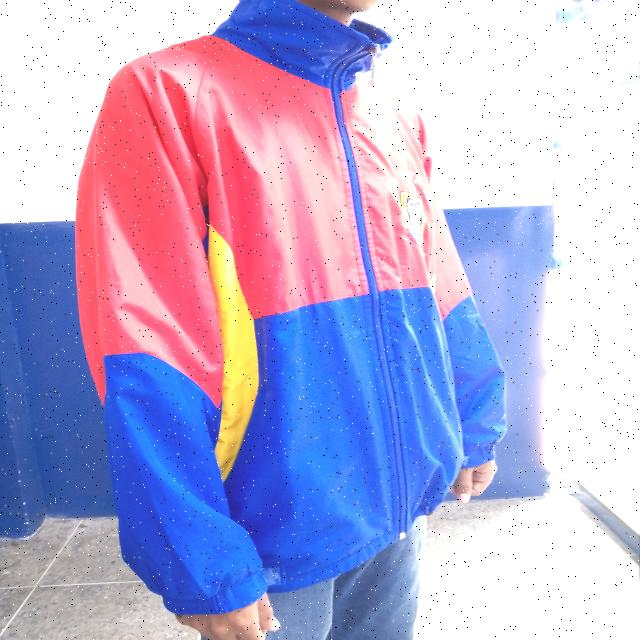chaqueta_unefa: (74, 0, 507, 615)
